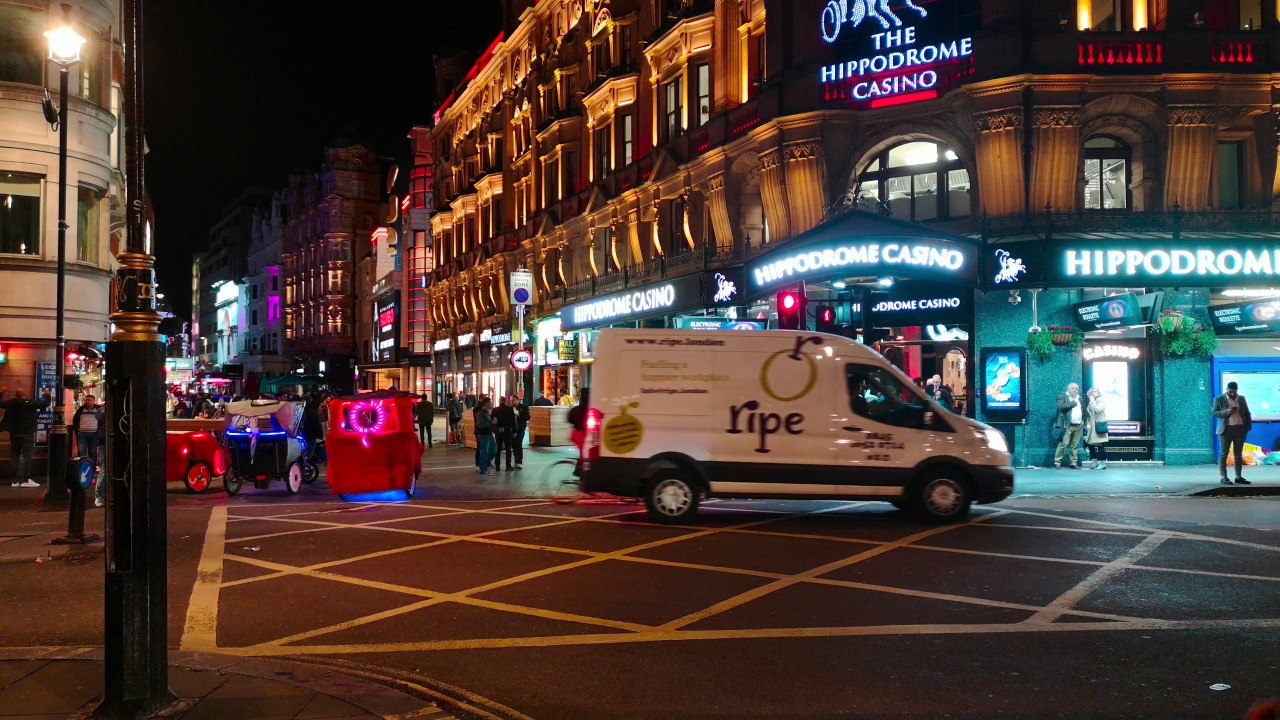car: (596, 325, 995, 516), (340, 399, 434, 496), (231, 403, 310, 494), (164, 413, 218, 497)
person: (2, 380, 44, 496), (1214, 370, 1251, 484), (76, 391, 110, 490), (1050, 371, 1082, 471), (1088, 378, 1113, 463), (494, 399, 513, 480), (474, 397, 489, 478), (567, 384, 587, 430), (518, 396, 528, 473), (925, 365, 944, 393), (449, 397, 456, 430)
